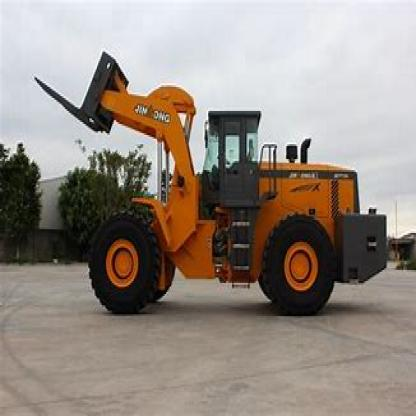bull_dozer/loader/grader: (77, 39, 389, 327)
